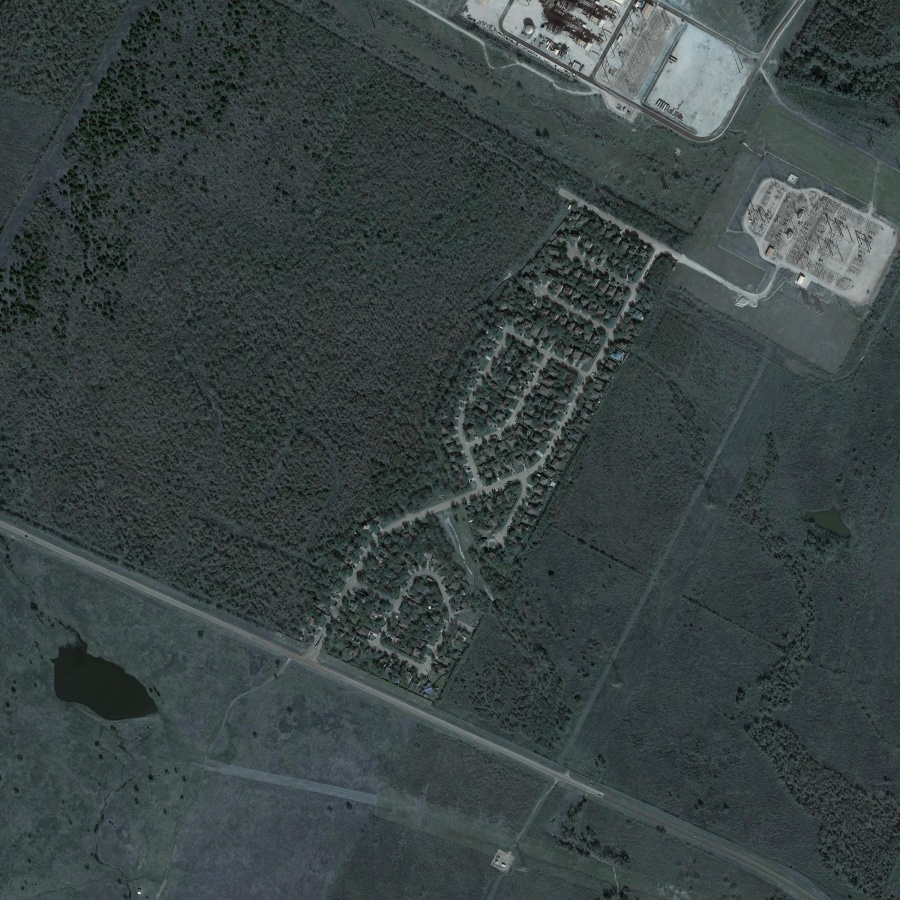PowerPlant: (740, 162, 886, 298)
